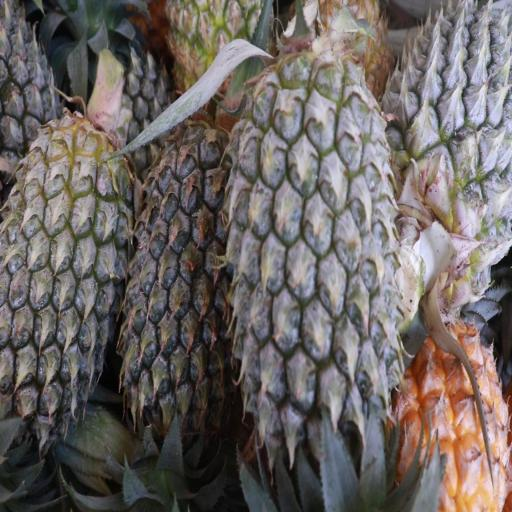Pineapple - v8 v1: (399, 317, 512, 512)
